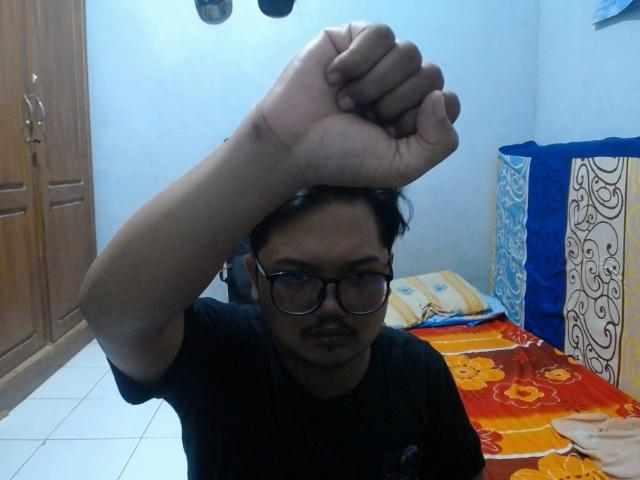Grab: (257, 14, 464, 196)
